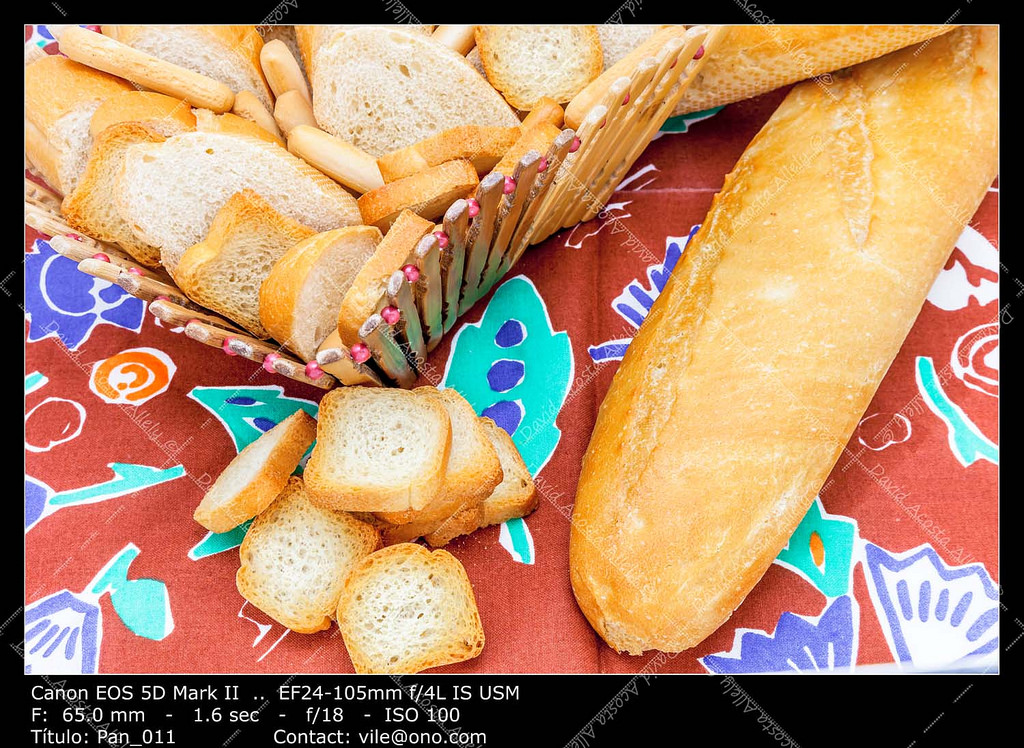slice of bread: (60, 43, 429, 289), (206, 410, 509, 671)
